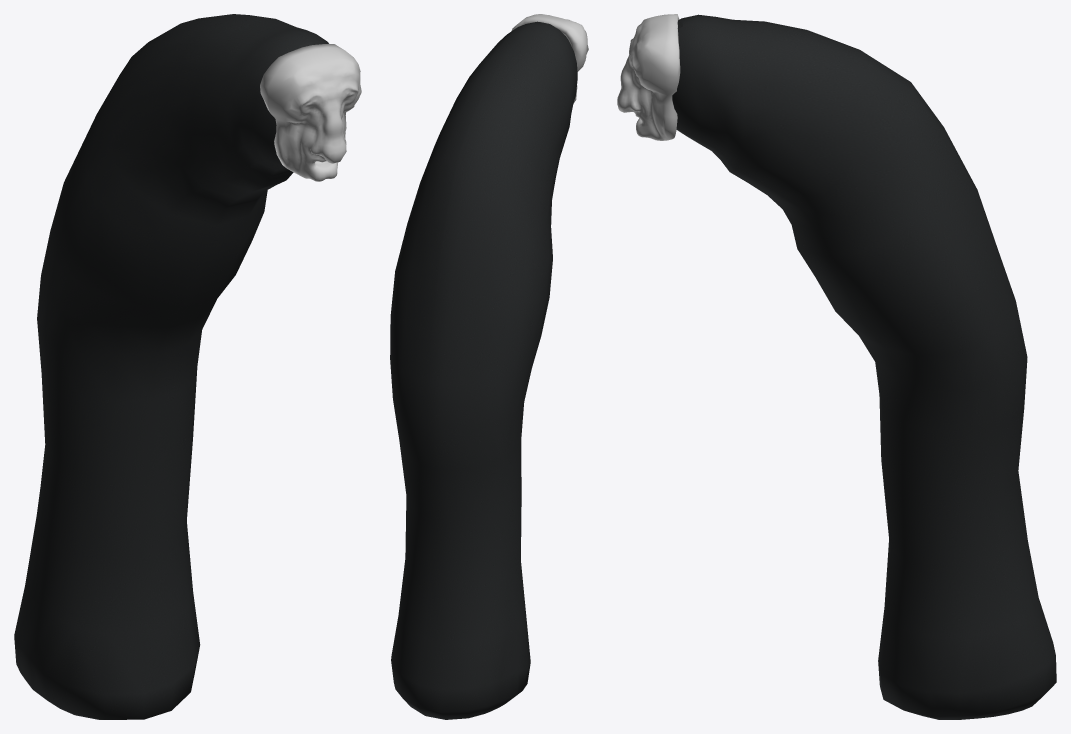
File: Entidad_F2.obj
3 views of the same model, side by side, from view 1: azimuth 30°, elevation 25°; view 2: azimuth 150°, elevation 25°; view 3: azimuth 270°, elevation 25° (orthographic). The views are drawn at different scales.
Visible parts, largest first — view 1: Object_7, 0; view 2: Object_7, 0; view 3: Object_7, 0.
Part boxes in pixels (left/top/right/bottom): Object_7: left=14, top=14, right=328, bottom=719; 0: left=260, top=44, right=361, bottom=181; Object_7: left=390, top=21, right=577, bottom=719; 0: left=511, top=14, right=588, bottom=103; Object_7: left=672, top=14, right=1056, bottom=719; 0: left=617, top=14, right=680, bottom=140.
Size of the model in its own units: 0.4937 by 1.96 by 1.11.
